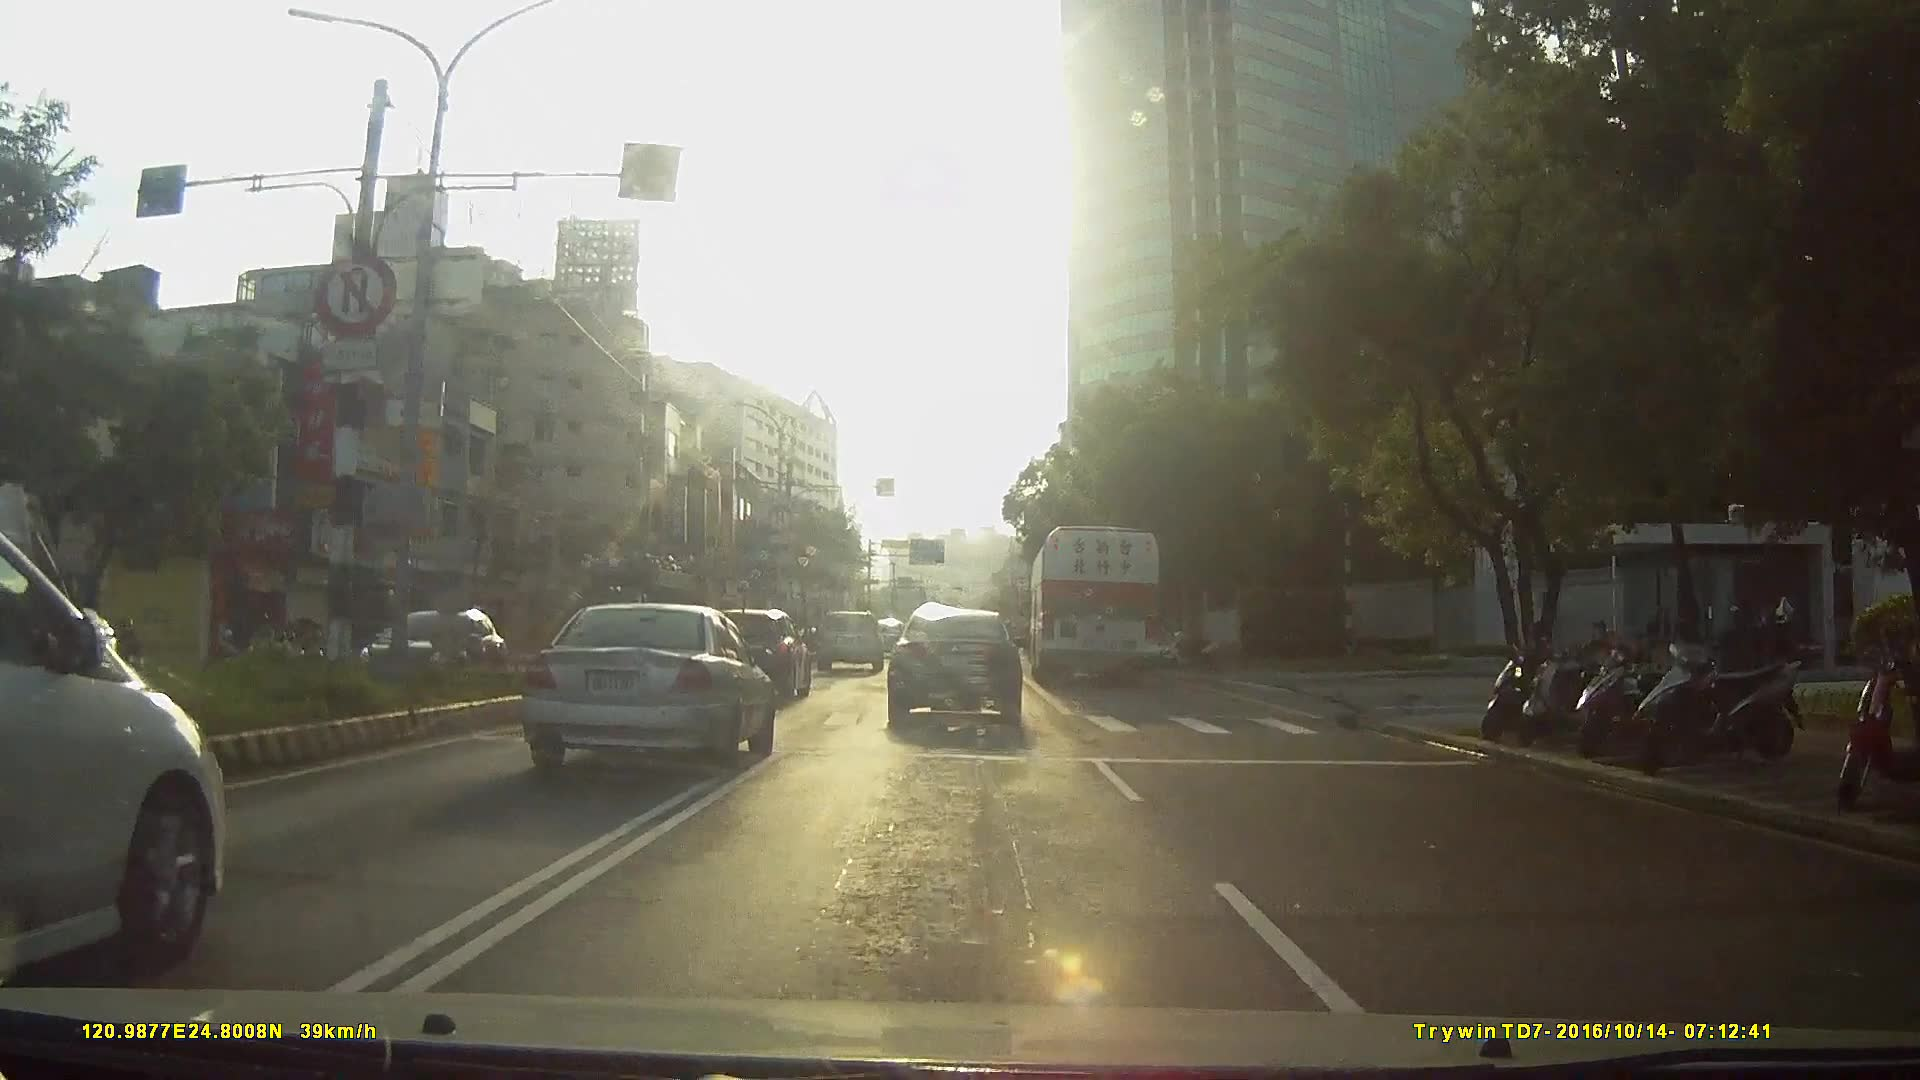vehicle: (1, 517, 247, 986), (509, 601, 773, 781), (1026, 521, 1164, 691), (887, 605, 1026, 716), (348, 604, 520, 691), (698, 607, 810, 703), (816, 608, 884, 675)
